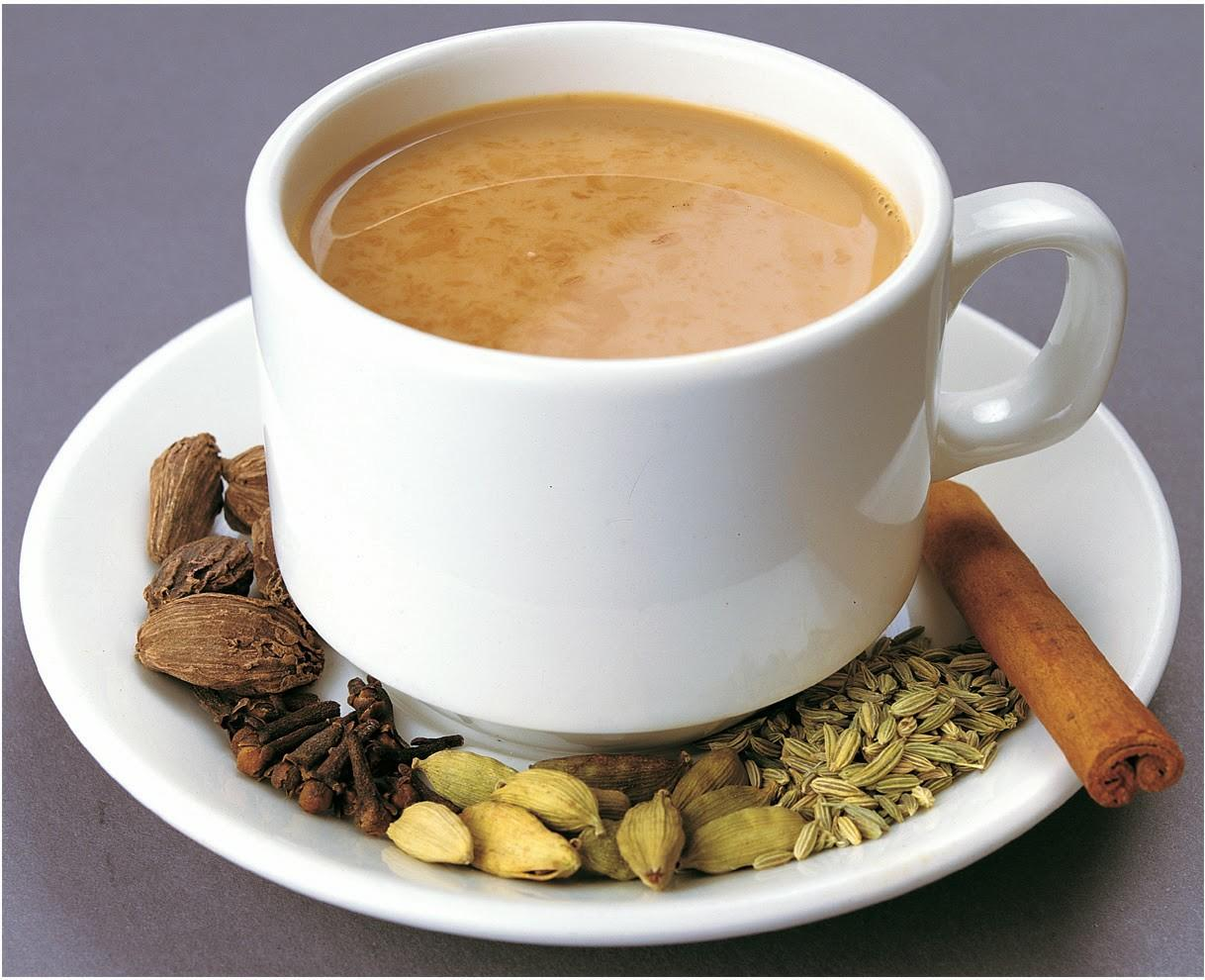Chai: (309, 91, 908, 366)
